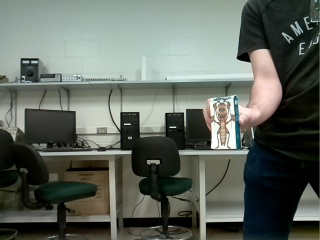Angry: (211, 100, 235, 149)
